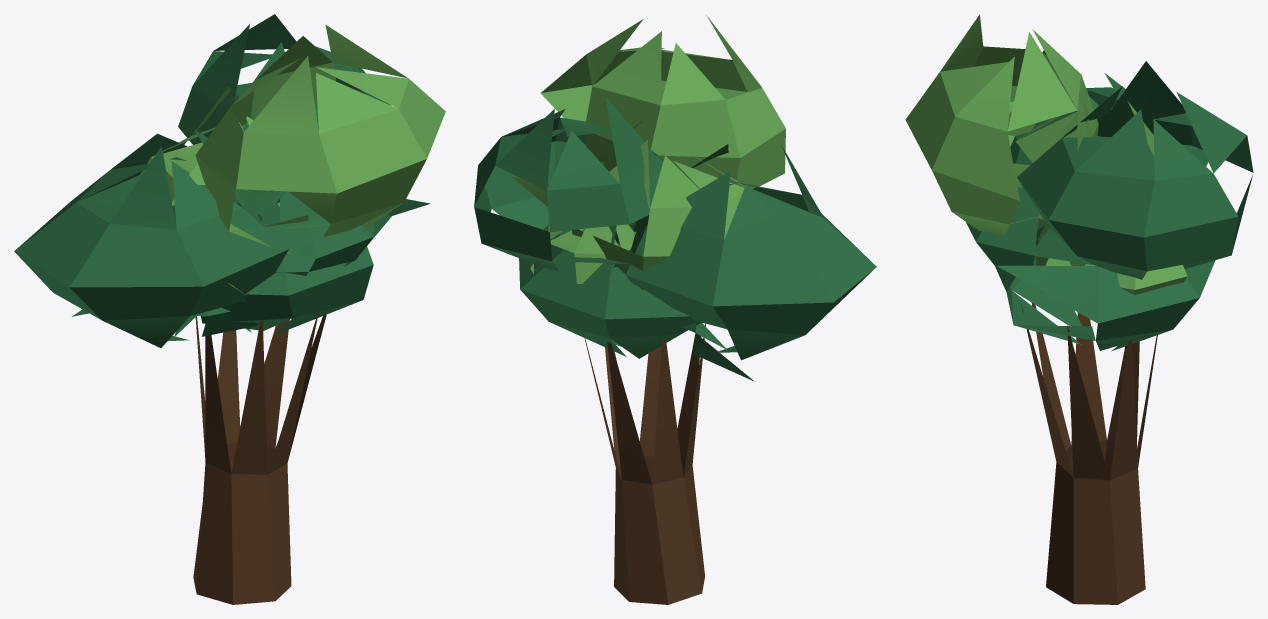
Rendered from tree_b_lod1.glb.
The picture shows the model from 3 angles, left to right: view 1: azimuth 30°, elevation 25°; view 2: azimuth 150°, elevation 25°; view 3: azimuth 270°, elevation 25°; orthographic projection. The views are drawn at different scales.
Visible parts, largest first — view 1: TREE_B; view 2: TREE_B; view 3: TREE_B.
Boxes of the visible parts, box(x1,y1,x2,y2) form: TREE_B: box(14, 14, 445, 604); TREE_B: box(474, 15, 876, 604); TREE_B: box(905, 14, 1253, 604).
Size of the model in its own units: 4.13 by 5.99 by 3.26.
